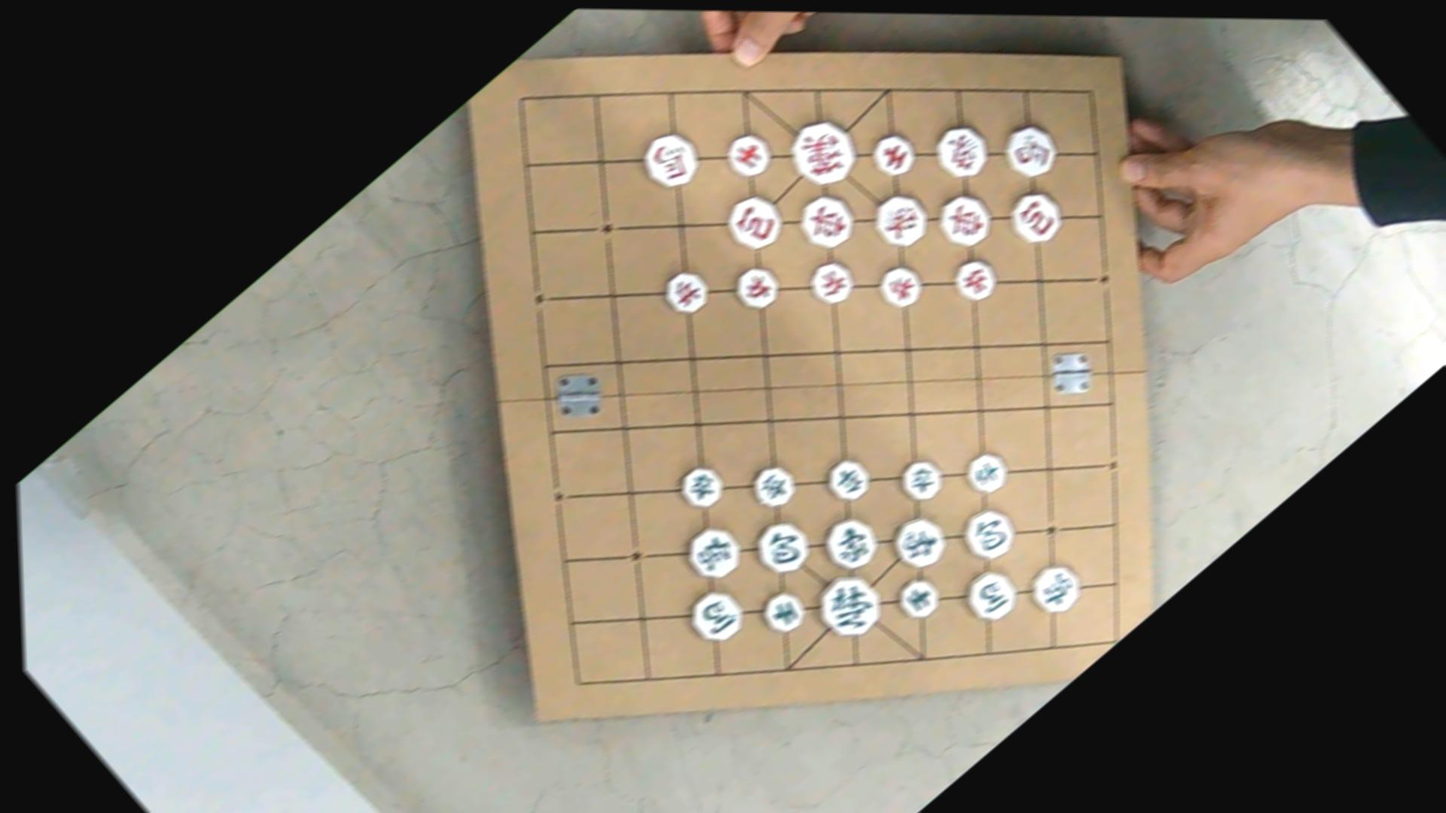cha_green: (677, 519, 750, 589), (1023, 556, 1090, 620)
cha_red: (791, 185, 864, 256), (930, 185, 1001, 254)
jol_green: (746, 458, 804, 513), (673, 459, 731, 514), (820, 452, 877, 507), (894, 453, 950, 507), (961, 446, 1015, 498)
jol_red: (871, 257, 930, 315), (802, 253, 862, 310), (728, 259, 787, 315), (657, 263, 716, 319), (947, 251, 1004, 307)
ma_green: (956, 562, 1027, 629), (682, 583, 752, 650)
ma_red: (634, 123, 710, 196), (996, 117, 1066, 184)
po_green: (746, 512, 820, 583), (955, 500, 1025, 567)
po_red: (718, 187, 792, 257), (1000, 183, 1072, 251)
sa_green: (755, 585, 813, 640), (892, 571, 947, 623)
sa_red: (719, 126, 779, 184), (866, 126, 925, 182)
sang_green: (816, 509, 886, 577), (885, 509, 955, 575)
sang_red: (927, 116, 999, 186), (866, 185, 938, 254)
wang_green: (807, 564, 892, 647)
wang_red: (779, 108, 869, 195)
